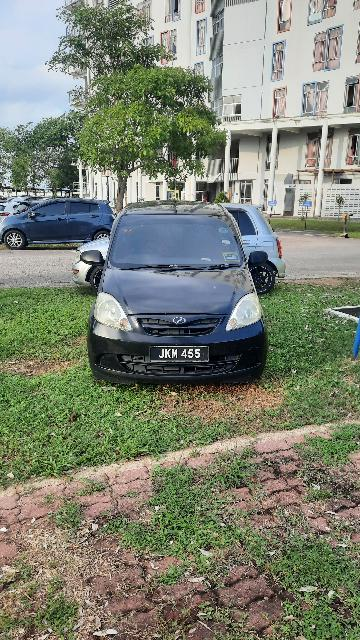License_Plate: (148, 343, 215, 371)
car: (84, 197, 272, 390), (1, 196, 119, 249)
